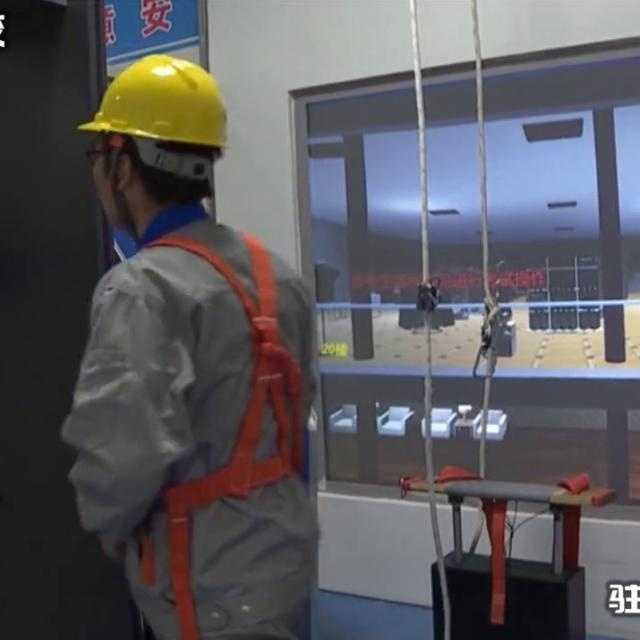Arnes_seguridad: (106, 223, 323, 535)
